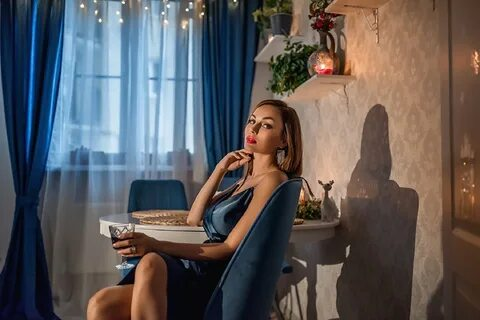awake: (85, 99, 303, 320)
